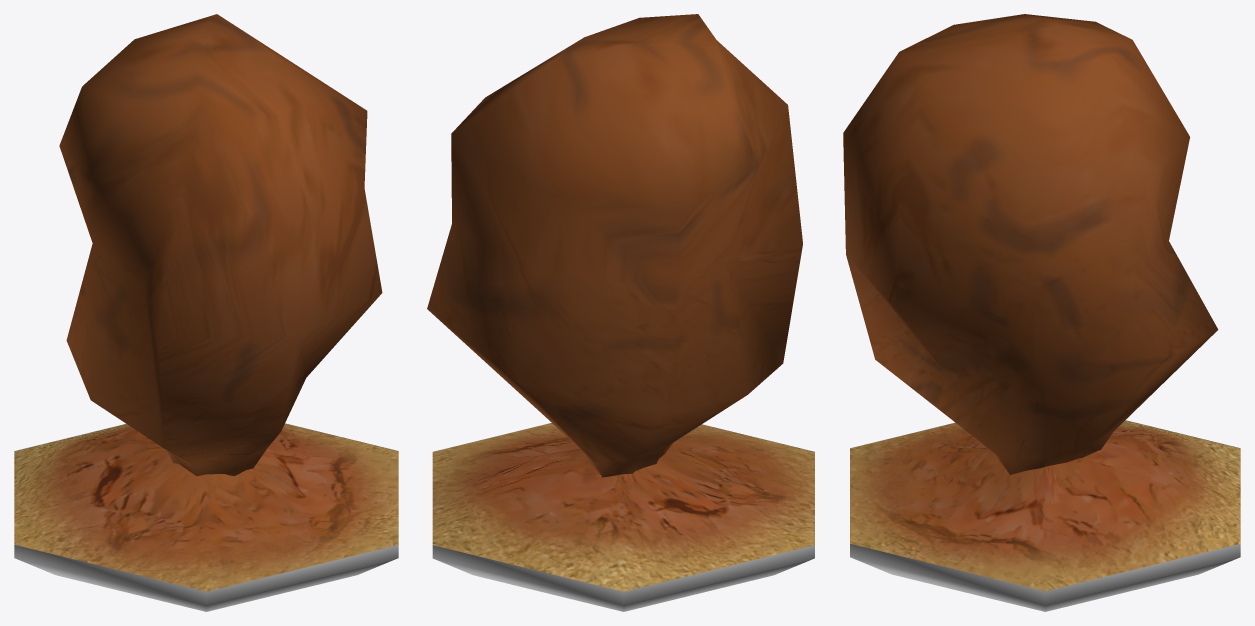
Rendered from tile_rock.FBX.
3 views of the same model, side by side, from view 1: azimuth 30°, elevation 25°; view 2: azimuth 150°, elevation 25°; view 3: azimuth 270°, elevation 25° (orthographic). The views are drawn at different scales.
Visible parts, largest first — view 1: tile_rockF, Object002, Object001; view 2: tile_rockF, Object002, Object001; view 3: tile_rockF, Object002, Object001.
Part boxes in pixels (<box>): tile_rockF: <box>59,14,382,476</box>; Object002: <box>14,423,398,591</box>; Object001: <box>14,423,398,611</box>; tile_rockF: <box>427,14,802,477</box>; Object002: <box>432,423,814,591</box>; Object001: <box>432,422,814,611</box>; tile_rockF: <box>843,14,1218,474</box>; Object002: <box>850,420,1240,591</box>; Object001: <box>850,420,1240,611</box>.
Bounding box in the file's own units: 180 × 236 × 159.
